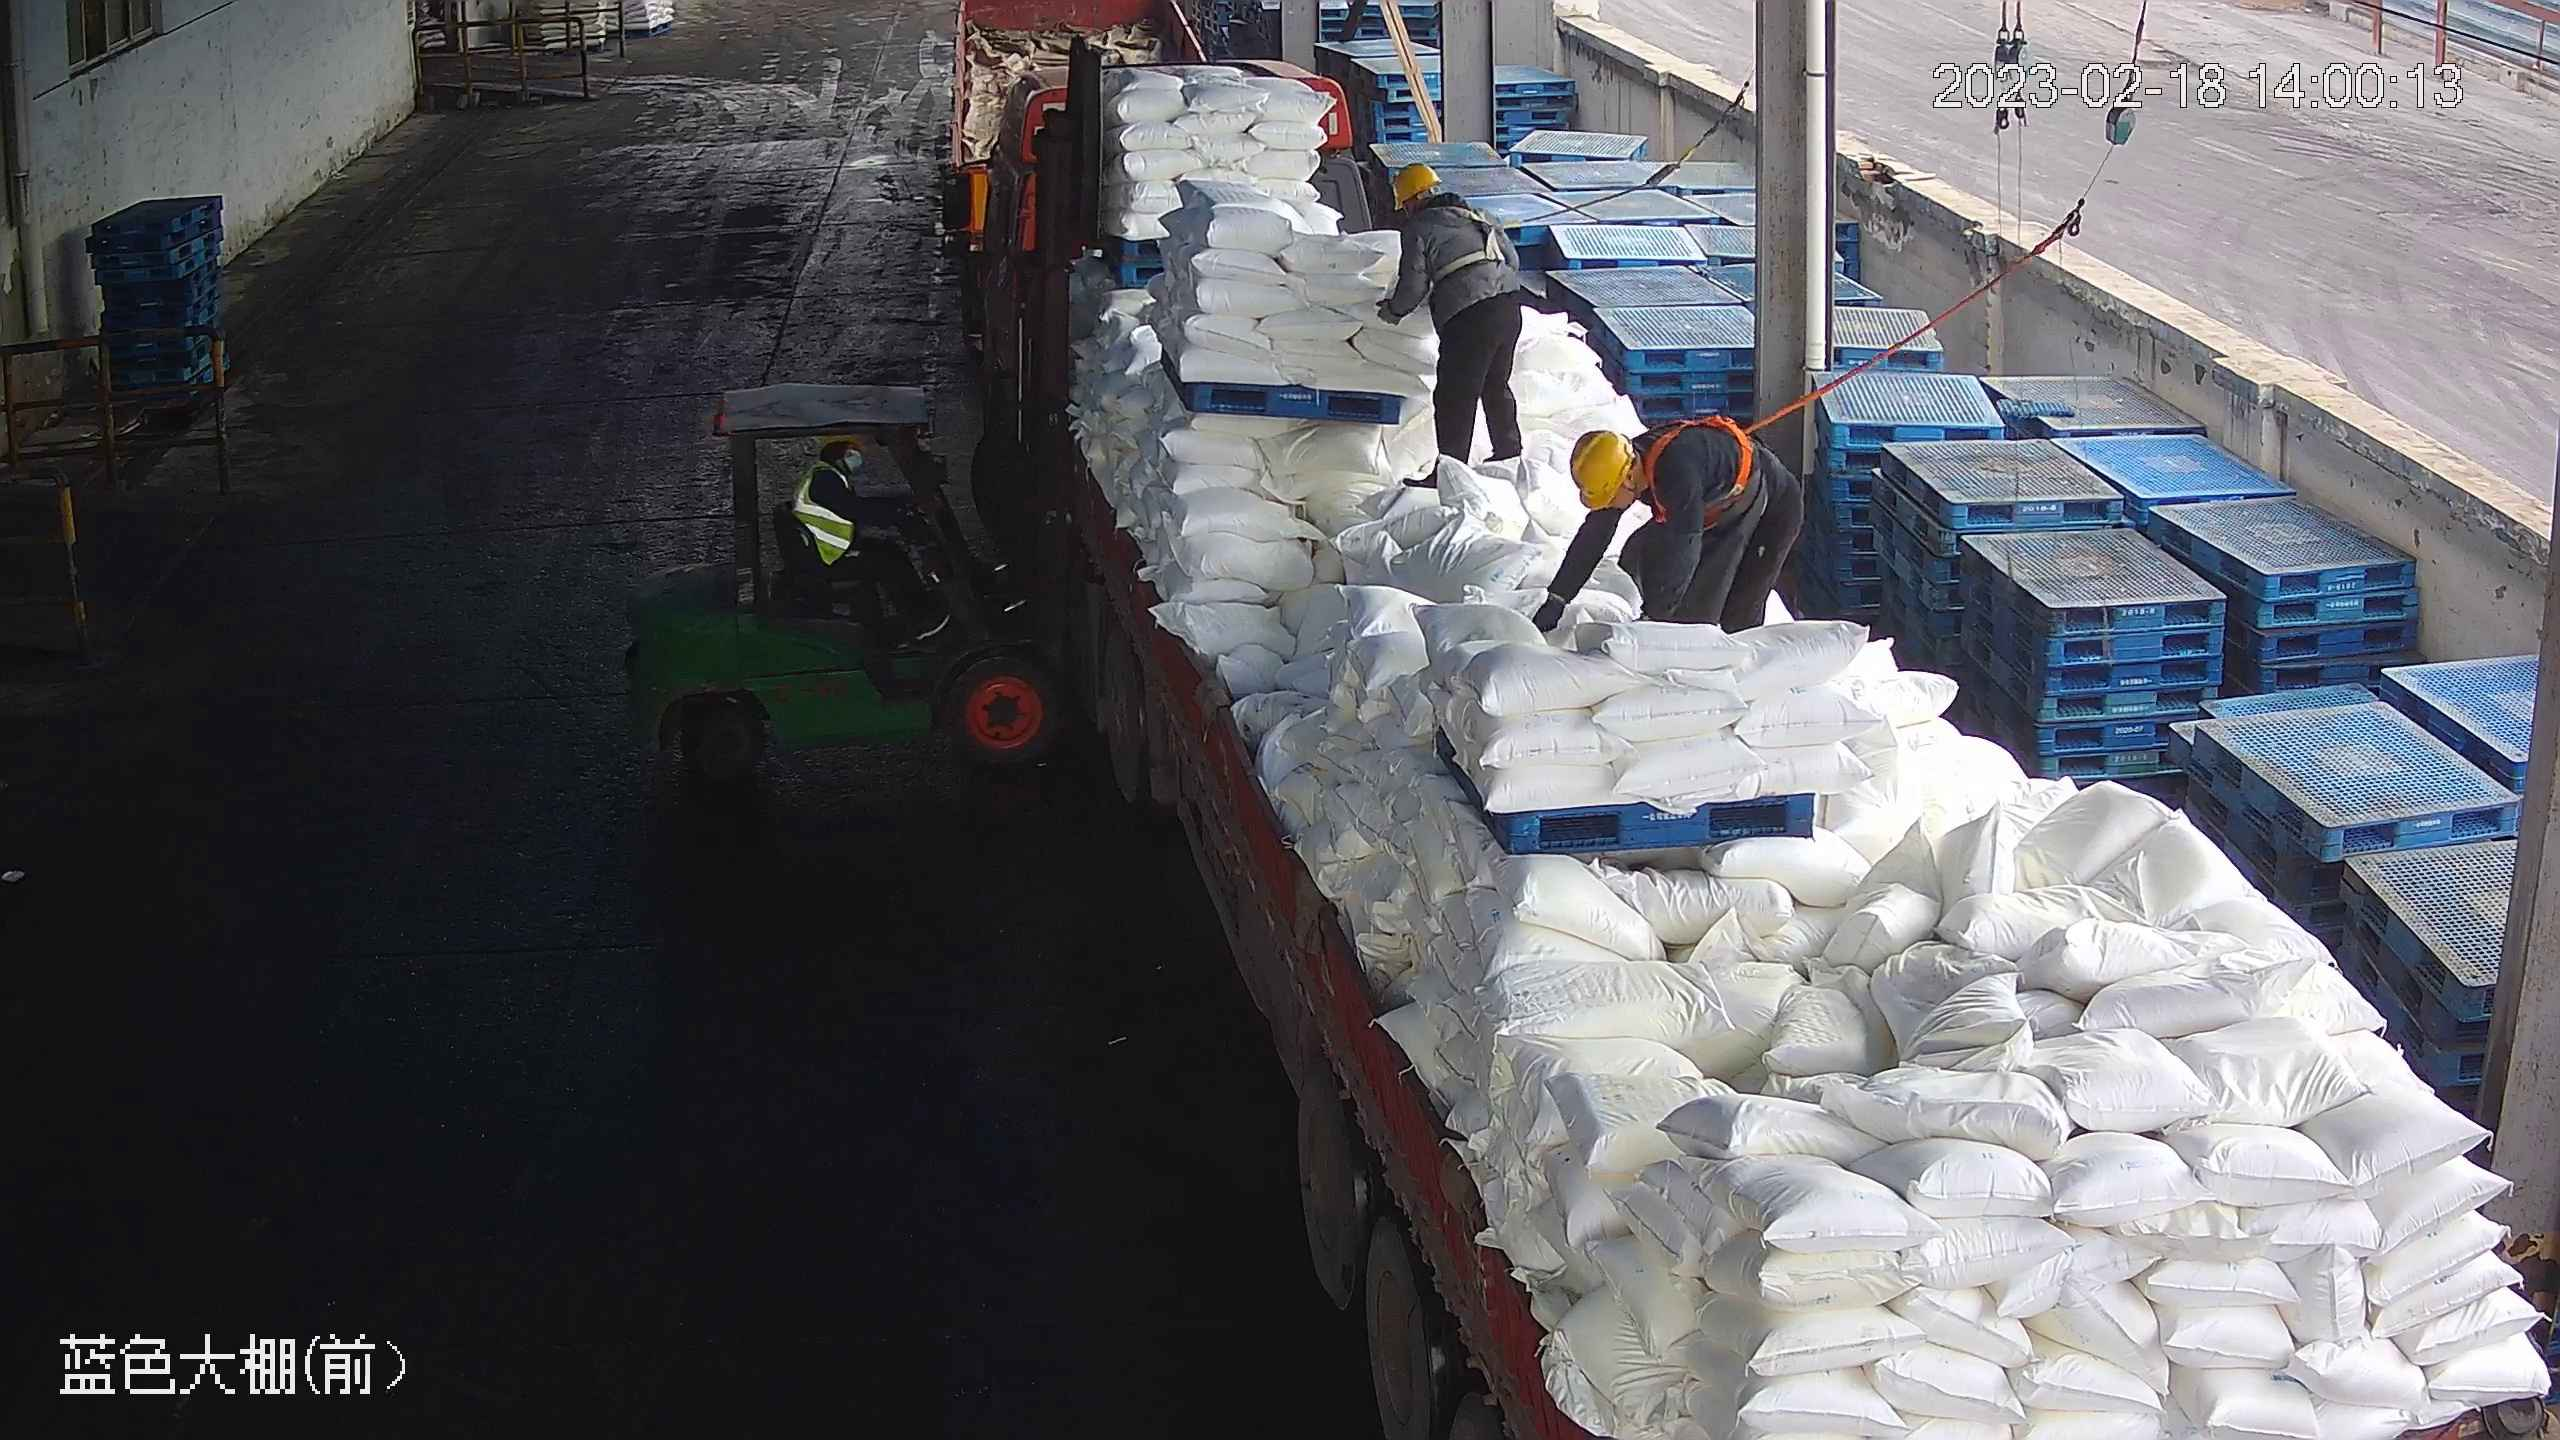belt: (1642, 406, 1756, 515), (1426, 200, 1524, 278)
head: (1569, 421, 1702, 525), (1390, 162, 1502, 251), (797, 432, 868, 504)
helmet: (1569, 428, 1634, 515), (1390, 161, 1441, 206)
people: (1534, 418, 1808, 646), (1373, 158, 1527, 482), (793, 430, 947, 633)
truck: (932, 49, 2557, 1439)
